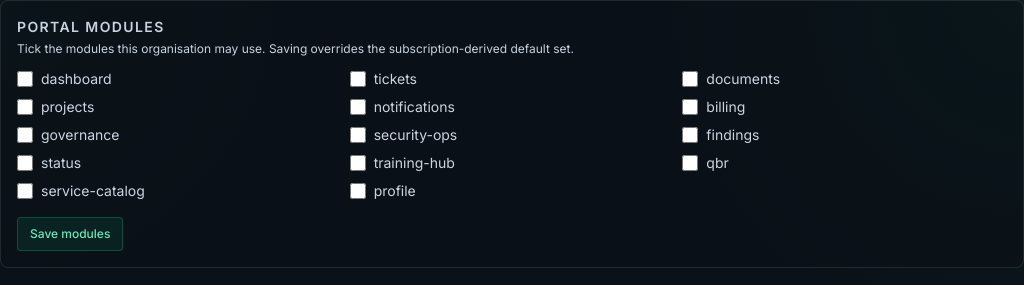
it: ClientPortalEntitlementsForm › saves the full module list
Step 1. Click the checkbox labelled "dashboard" → (25, 79), box [17,71,33,87]
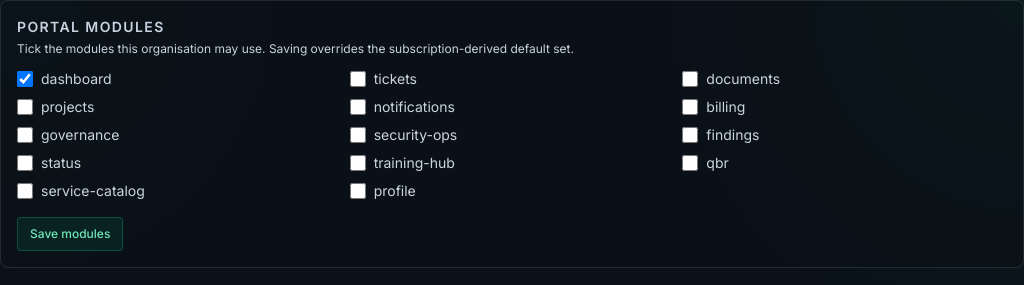
Step 2. Click the button "Save modules" → (70, 234), box [17,217,123,251]
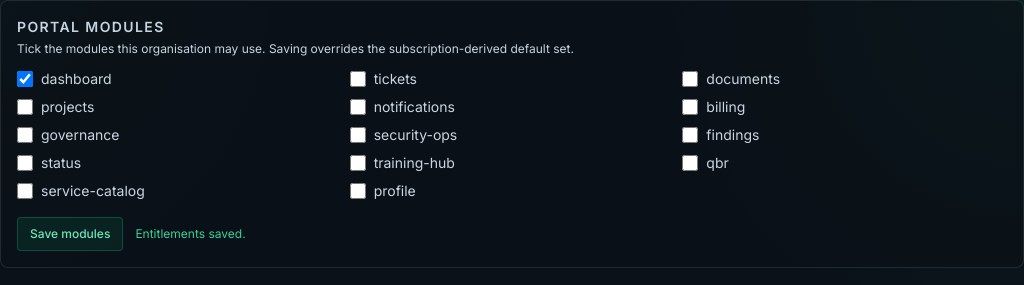
Expected: the text "Entitlements saved." is shown, [135,226,246,242]
